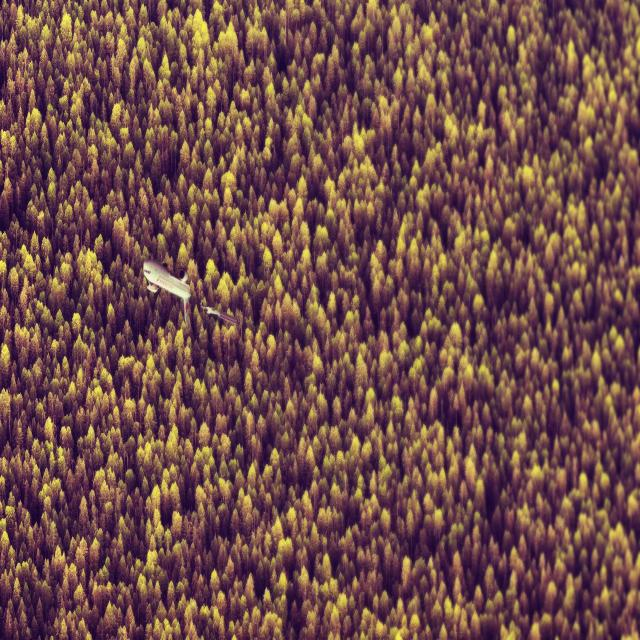airplane: (142, 257, 191, 326)
